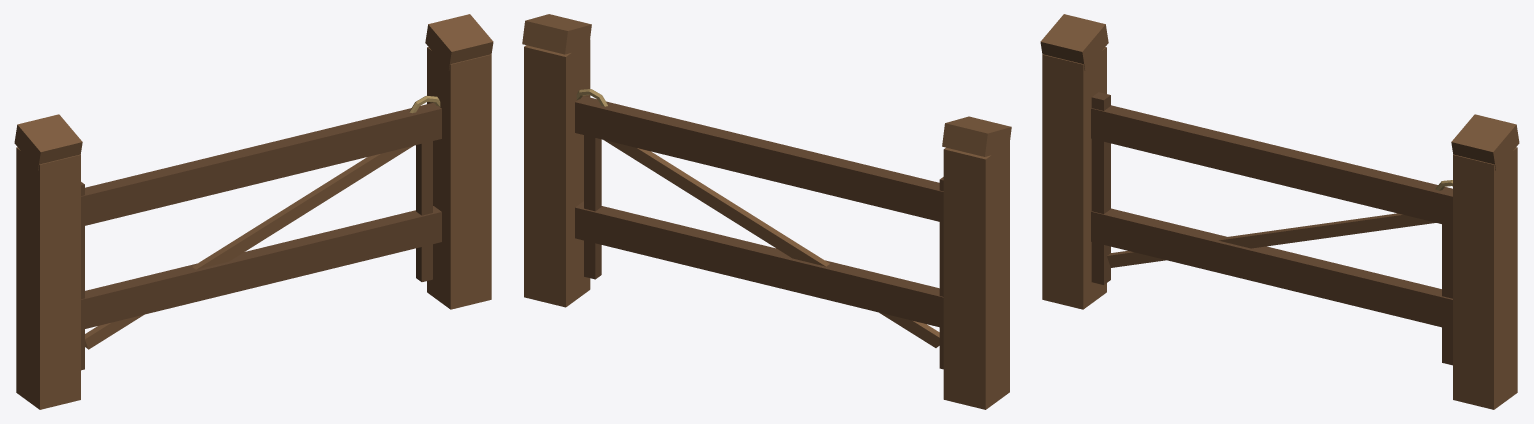
File: SM_Fence_RusticRail_01_Gate.glb
The picture shows the model from 3 angles, left to right: view 1: azimuth 30°, elevation 25°; view 2: azimuth 150°, elevation 25°; view 3: azimuth 330°, elevation 25°; orthographic projection. The views are drawn at different scales.
Visible parts, largest first — view 1: SM_Fence_RusticRail_01_Gate_PostHinge, SM_Fence_RusticRail_01_Gate_PostLatch, SM_Fence_RusticRail_01_Gate_Leaf_Rail78, SM_Fence_RusticRail_01_Gate_Leaf_Rail30, SM_Fence_RusticRail_01_Gate_Leaf_Brace, SM_Fence_RusticRail_01_Gate_PostLatch_Cap, SM_Fence_RusticRail_01_Gate_PostHinge_Cap, SM_Fence_RusticRail_01_Gate_Leaf_StileFar, SM_Fence_RusticRail_01_Gate_Leaf; view 2: SM_Fence_RusticRail_01_Gate_PostHinge, SM_Fence_RusticRail_01_Gate_PostLatch, SM_Fence_RusticRail_01_Gate_Leaf_Rail78, SM_Fence_RusticRail_01_Gate_Leaf_Rail30, SM_Fence_RusticRail_01_Gate_Leaf_Brace, SM_Fence_RusticRail_01_Gate_PostLatch_Cap, SM_Fence_RusticRail_01_Gate_PostHinge_Cap, SM_Fence_RusticRail_01_Gate_Leaf_StileFar, SM_Fence_RusticRail_01_Gate_Leaf; view 3: SM_Fence_RusticRail_01_Gate_PostLatch, SM_Fence_RusticRail_01_Gate_Leaf_Rail78, SM_Fence_RusticRail_01_Gate_Leaf_Rail30, SM_Fence_RusticRail_01_Gate_PostHinge, SM_Fence_RusticRail_01_Gate_Leaf_Brace, SM_Fence_RusticRail_01_Gate_Leaf, SM_Fence_RusticRail_01_Gate_PostHinge_Cap, SM_Fence_RusticRail_01_Gate_PostLatch_Cap, SM_Fence_RusticRail_01_Gate_Leaf_StileFar.
Boxes of the visible parts, x1=… form: SM_Fence_RusticRail_01_Gate_PostHinge: x1=16, y1=147, x2=80, y2=409; SM_Fence_RusticRail_01_Gate_PostLatch: x1=427, y1=47, x2=491, y2=309; SM_Fence_RusticRail_01_Gate_Leaf_Rail78: x1=81, y1=102, x2=441, y2=226; SM_Fence_RusticRail_01_Gate_Leaf_Rail30: x1=81, y1=206, x2=441, y2=329; SM_Fence_RusticRail_01_Gate_Leaf_Brace: x1=85, y1=145, x2=413, y2=349; SM_Fence_RusticRail_01_Gate_PostLatch_Cap: x1=425, y1=14, x2=493, y2=70; SM_Fence_RusticRail_01_Gate_PostHinge_Cap: x1=14, y1=114, x2=82, y2=170; SM_Fence_RusticRail_01_Gate_Leaf_StileFar: x1=416, y1=141, x2=432, y2=281; SM_Fence_RusticRail_01_Gate_Leaf: x1=81, y1=182, x2=84, y2=370; SM_Fence_RusticRail_01_Gate_PostHinge: x1=943, y1=143, x2=1009, y2=409; SM_Fence_RusticRail_01_Gate_PostLatch: x1=524, y1=39, x2=590, y2=307; SM_Fence_RusticRail_01_Gate_Leaf_Rail78: x1=575, y1=96, x2=943, y2=222; SM_Fence_RusticRail_01_Gate_Leaf_Rail30: x1=575, y1=201, x2=943, y2=328; SM_Fence_RusticRail_01_Gate_Leaf_Brace: x1=604, y1=140, x2=939, y2=347; SM_Fence_RusticRail_01_Gate_PostLatch_Cap: x1=522, y1=14, x2=591, y2=54; SM_Fence_RusticRail_01_Gate_PostHinge_Cap: x1=942, y1=116, x2=1011, y2=156; SM_Fence_RusticRail_01_Gate_Leaf_StileFar: x1=584, y1=135, x2=601, y2=279; SM_Fence_RusticRail_01_Gate_Leaf: x1=939, y1=177, x2=943, y2=369; SM_Fence_RusticRail_01_Gate_PostLatch: x1=1453, y1=147, x2=1517, y2=409; SM_Fence_RusticRail_01_Gate_Leaf_Rail78: x1=1091, y1=105, x2=1452, y2=226; SM_Fence_RusticRail_01_Gate_Leaf_Rail30: x1=1091, y1=208, x2=1452, y2=329; SM_Fence_RusticRail_01_Gate_PostHinge: x1=1042, y1=47, x2=1106, y2=309; SM_Fence_RusticRail_01_Gate_Leaf_Brace: x1=1107, y1=213, x2=1435, y2=267; SM_Fence_RusticRail_01_Gate_Leaf: x1=1091, y1=92, x2=1110, y2=284; SM_Fence_RusticRail_01_Gate_PostHinge_Cap: x1=1040, y1=14, x2=1108, y2=70; SM_Fence_RusticRail_01_Gate_PostLatch_Cap: x1=1451, y1=114, x2=1519, y2=170; SM_Fence_RusticRail_01_Gate_Leaf_StileFar: x1=1442, y1=224, x2=1452, y2=365.
Size of the model in its own units: 2.2 by 1.25 by 0.2221.
